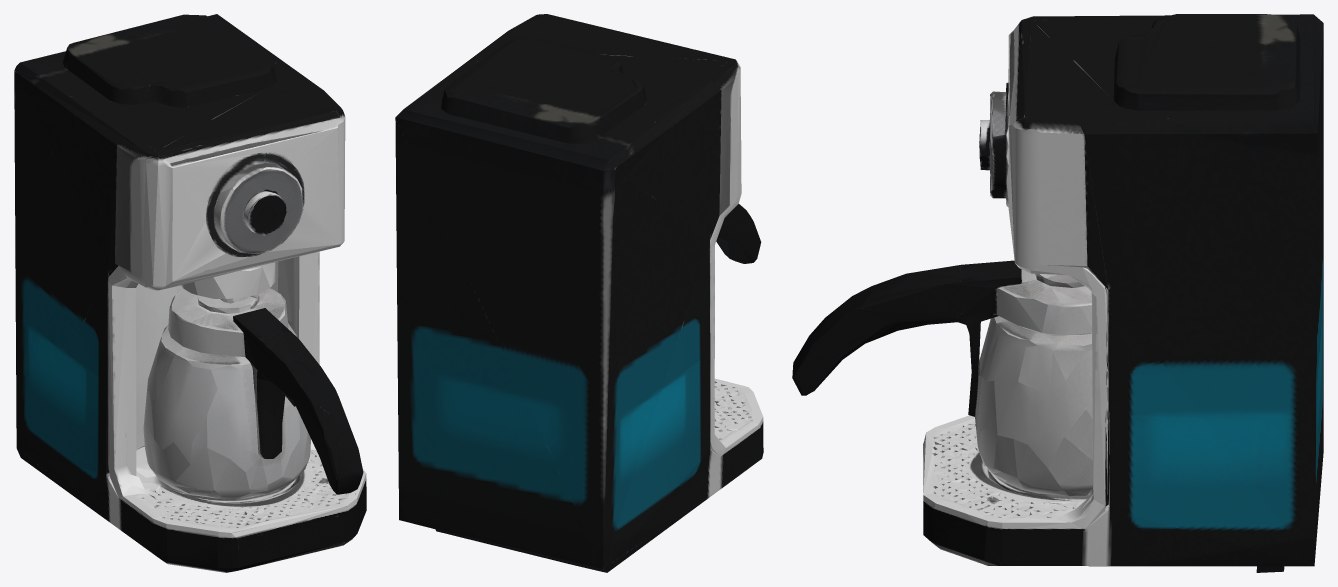
Rendered from Coffee Machine.fbx.
The picture shows the model from 3 angles, left to right: view 1: azimuth 30°, elevation 25°; view 2: azimuth 150°, elevation 25°; view 3: azimuth 270°, elevation 25°; orthographic projection. The views are drawn at different scales.
Visible parts, largest first — view 1: Meshy_Remeshed; view 2: Meshy_Remeshed; view 3: Meshy_Remeshed.
Boxes of the visible parts, x1,y1,x2,y2 form: Meshy_Remeshed: (14,14,366,572); Meshy_Remeshed: (395,14,763,572); Meshy_Remeshed: (792,14,1323,572).
Bounding box in the file's own units: 97.18 × 189 × 190.
1 material, 1 textured.
